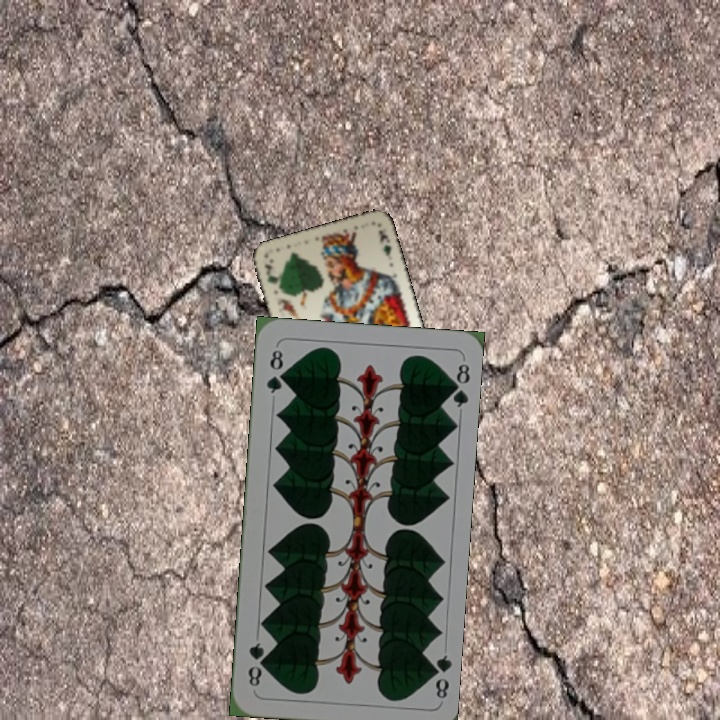G8: (425, 651, 453, 701), (262, 345, 287, 396)
GK: (260, 259, 280, 287)
